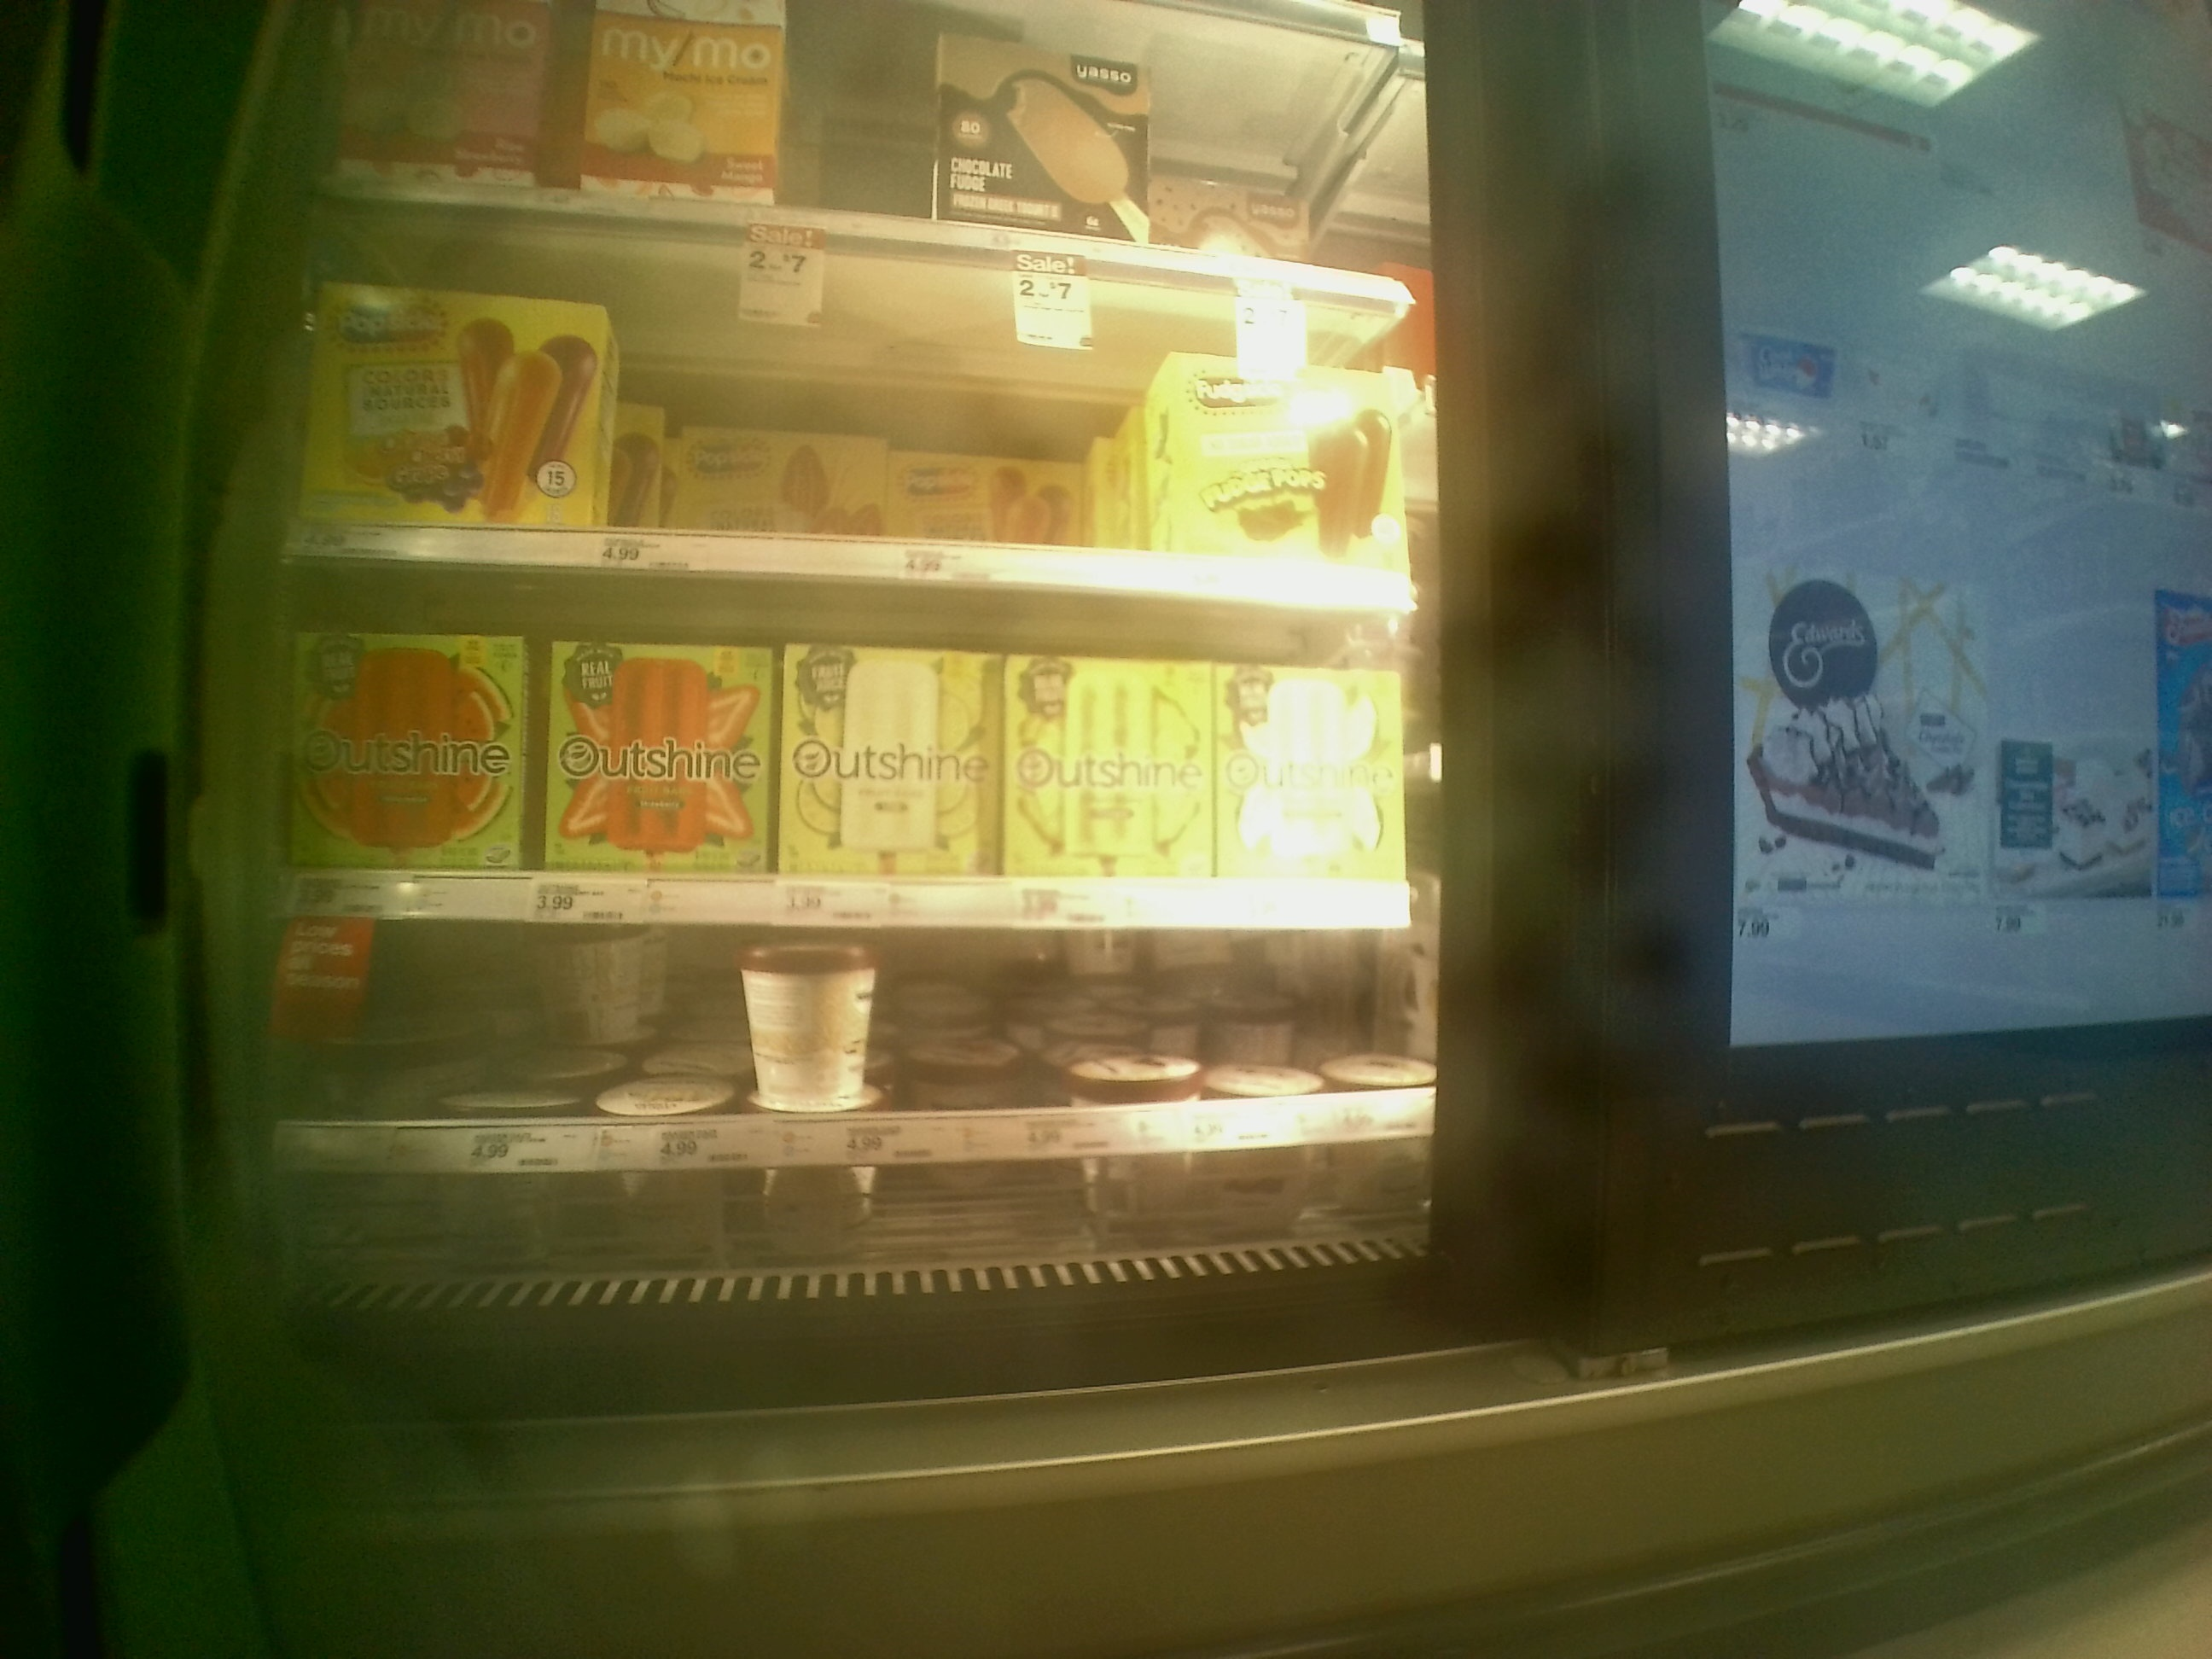shelf: (289, 192, 1423, 608), (284, 561, 1433, 924), (275, 927, 1430, 1201)
